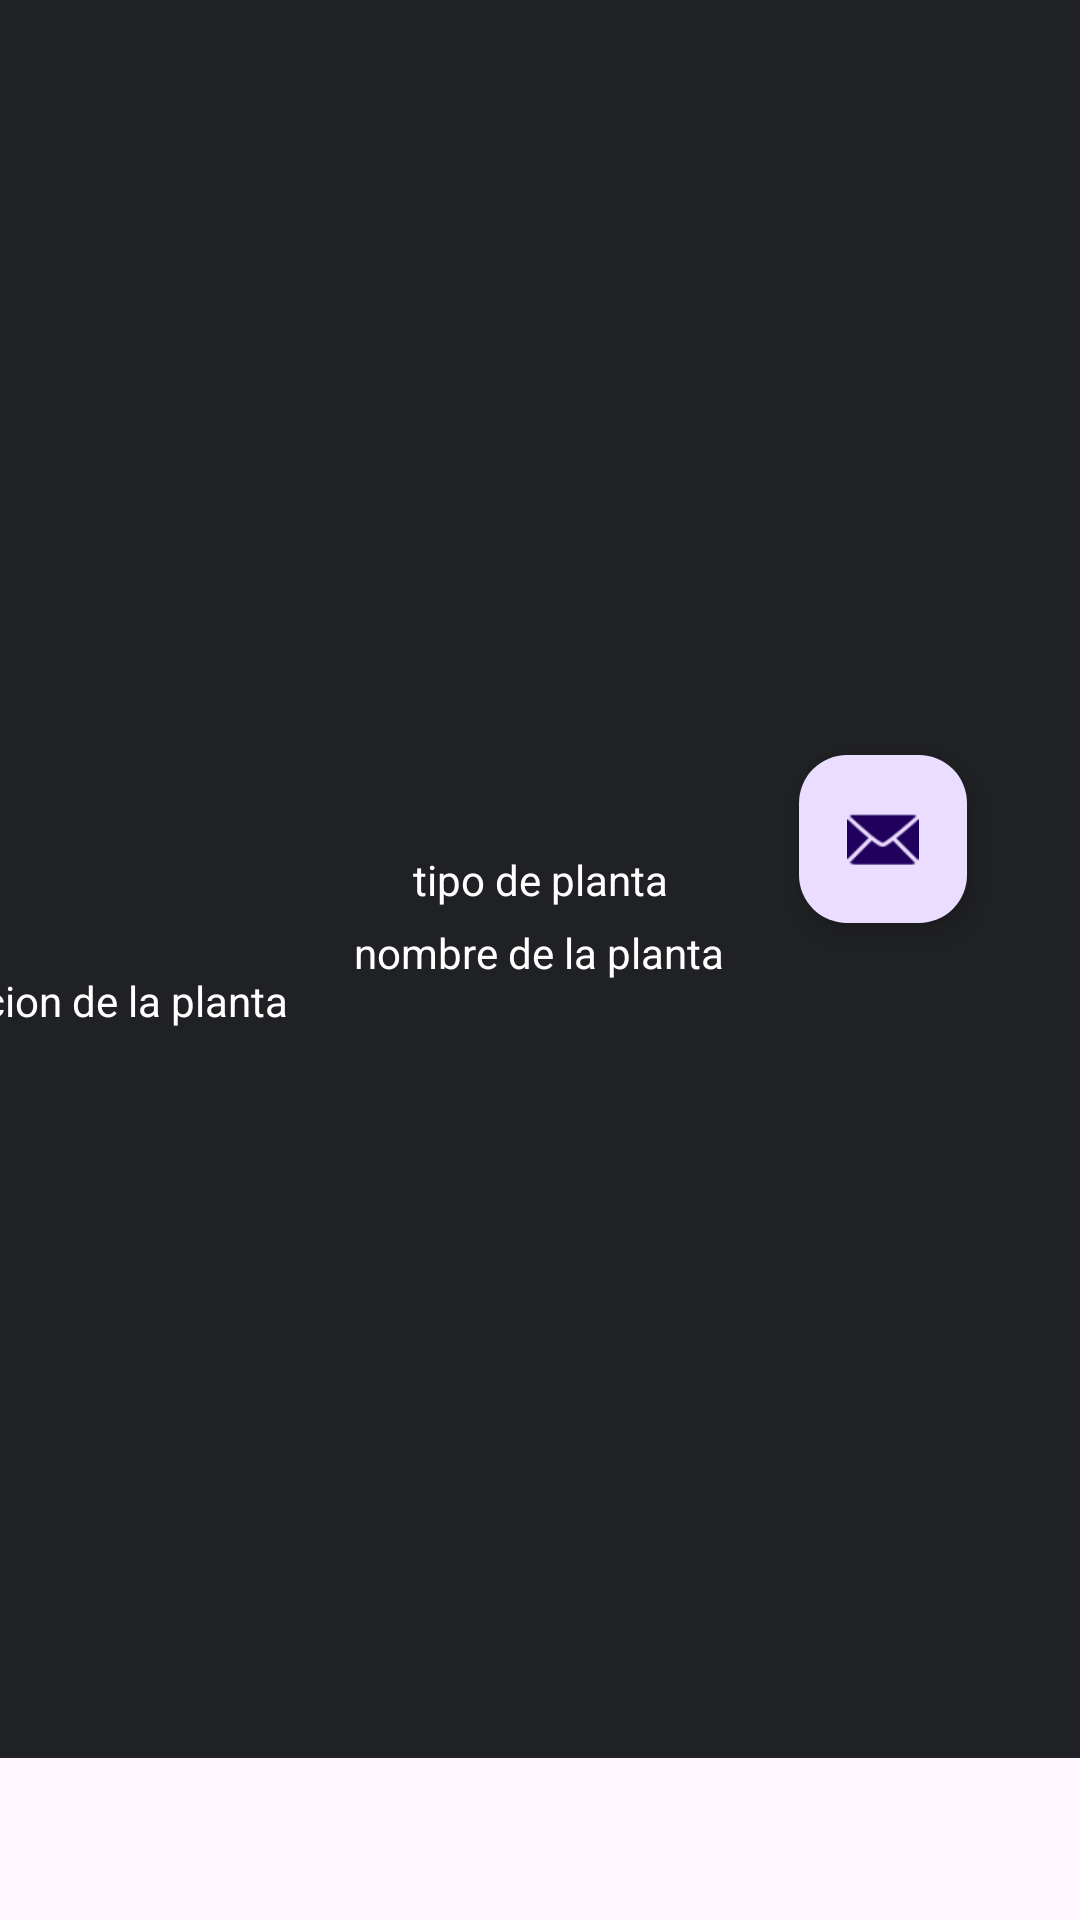

Point at icon controls on the screen. Image size 1080px×1920px, points as (x=x, y=y).
email: (x=883, y=839)
